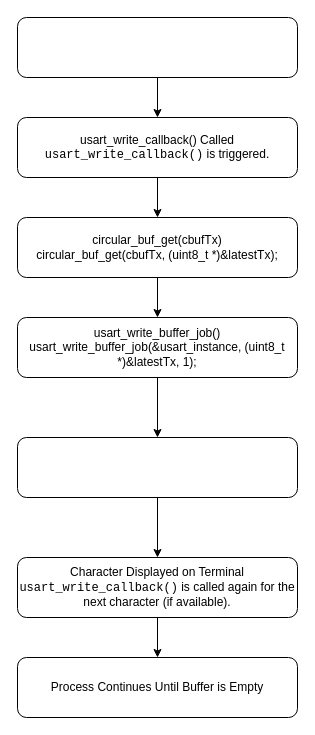
Some shapes in this 315 by 735 pixel diagram are drawn without their labels. Each missing label, with the box of its shape:
Character Transmitted over the serial line: (16, 436, 298, 498)
Program Adds String to cbufTx SerialConsoleWriteString("Test Message");: (16, 16, 298, 78)
